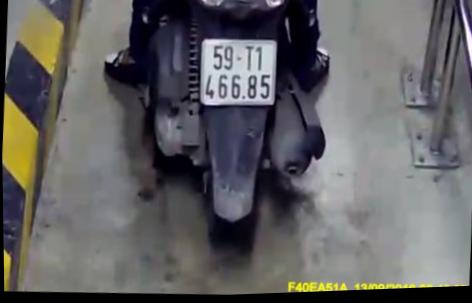LP: (194, 34, 280, 113)
